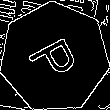P_NE: (24, 29, 85, 86)
